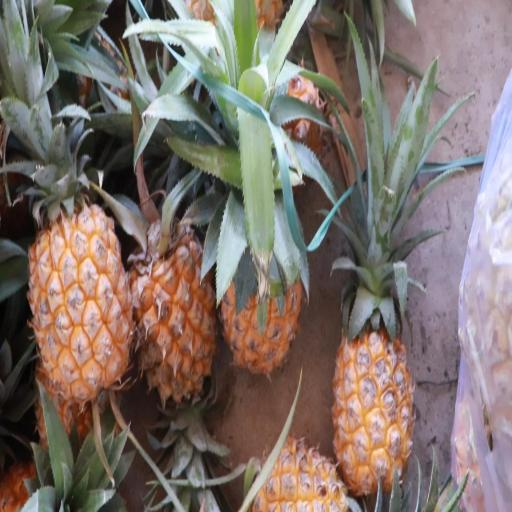Pineapple - v8 v1: (26, 177, 138, 409), (125, 209, 219, 409), (218, 177, 304, 380), (330, 294, 416, 497)
